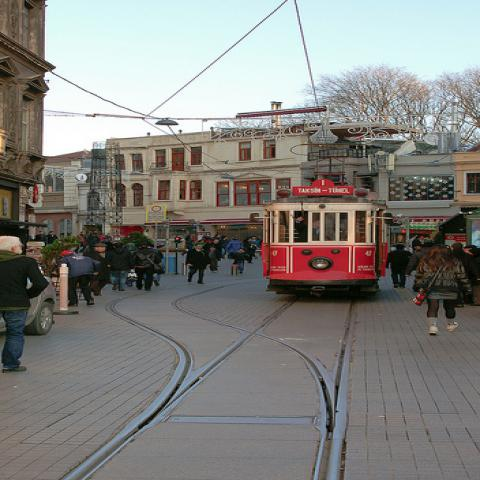car: (24, 276, 60, 336)
